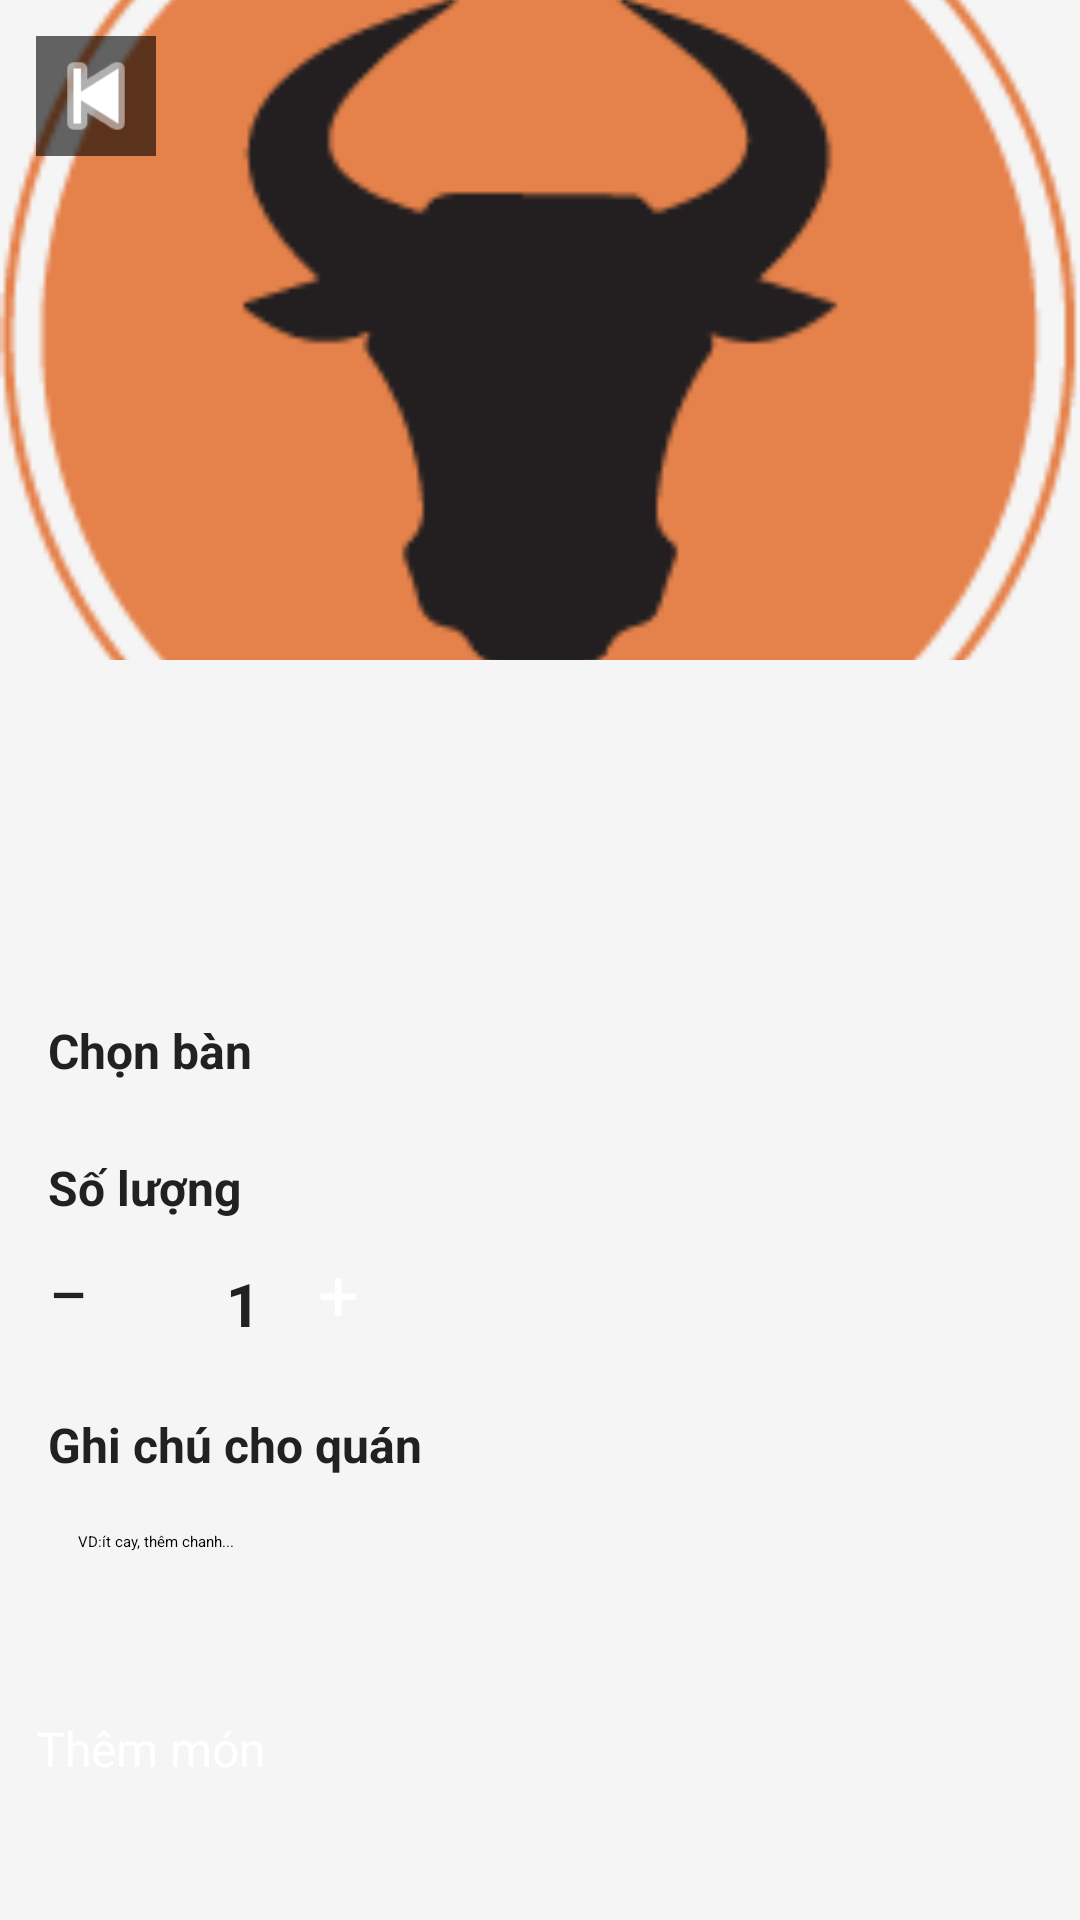

Point at icon controls on the screen. Image size 1080 × 1920, points as (x,y).
previous: (96,96)
